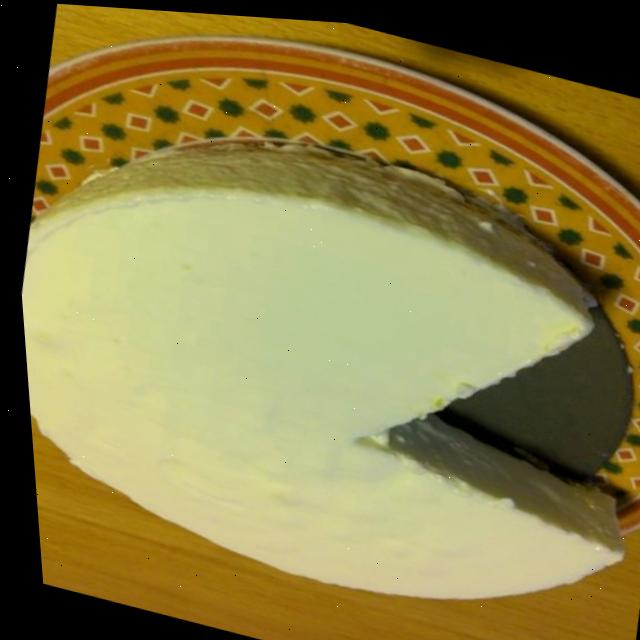蛋糕甜品: (0, 3, 640, 640)
